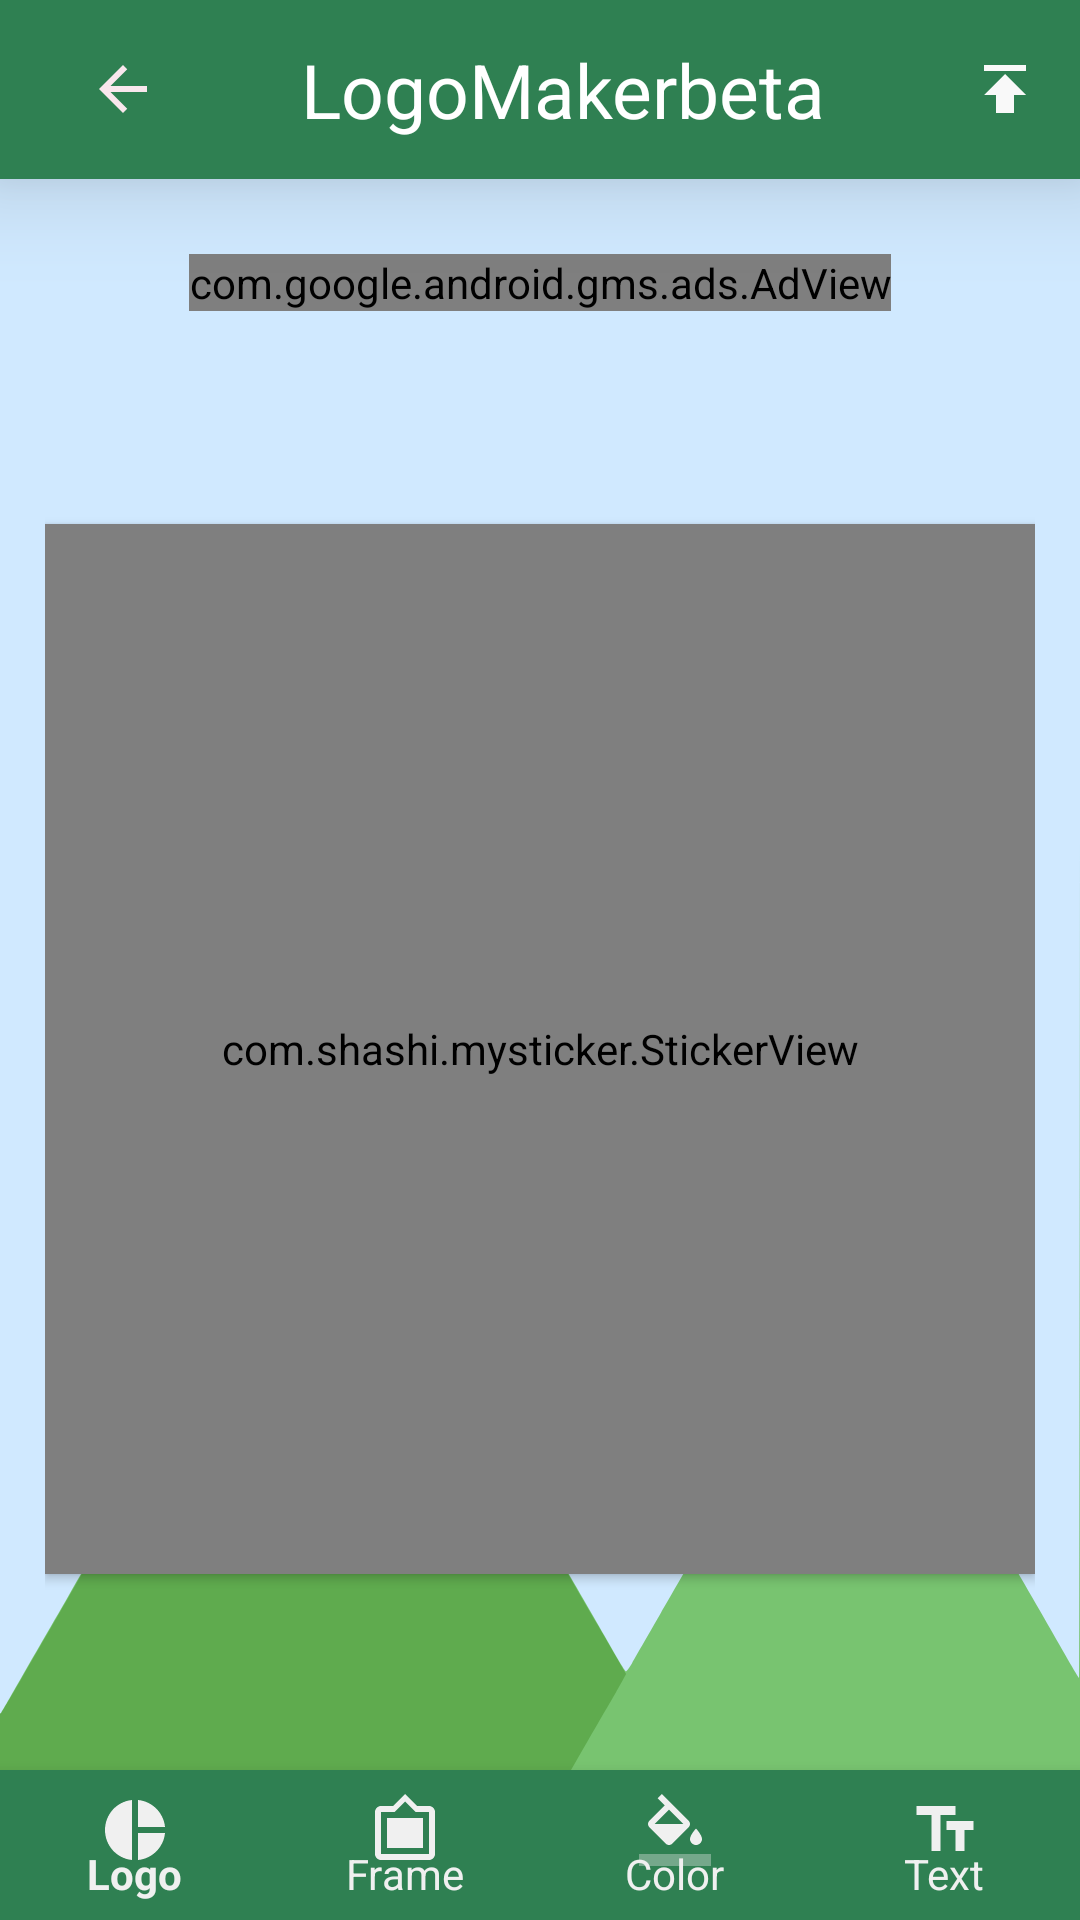

Point at icon controls on the screen. Image size 1080×1920, points as (x=x, y=y).
arrow back: (x=123, y=89)
publish: (x=1005, y=89)
